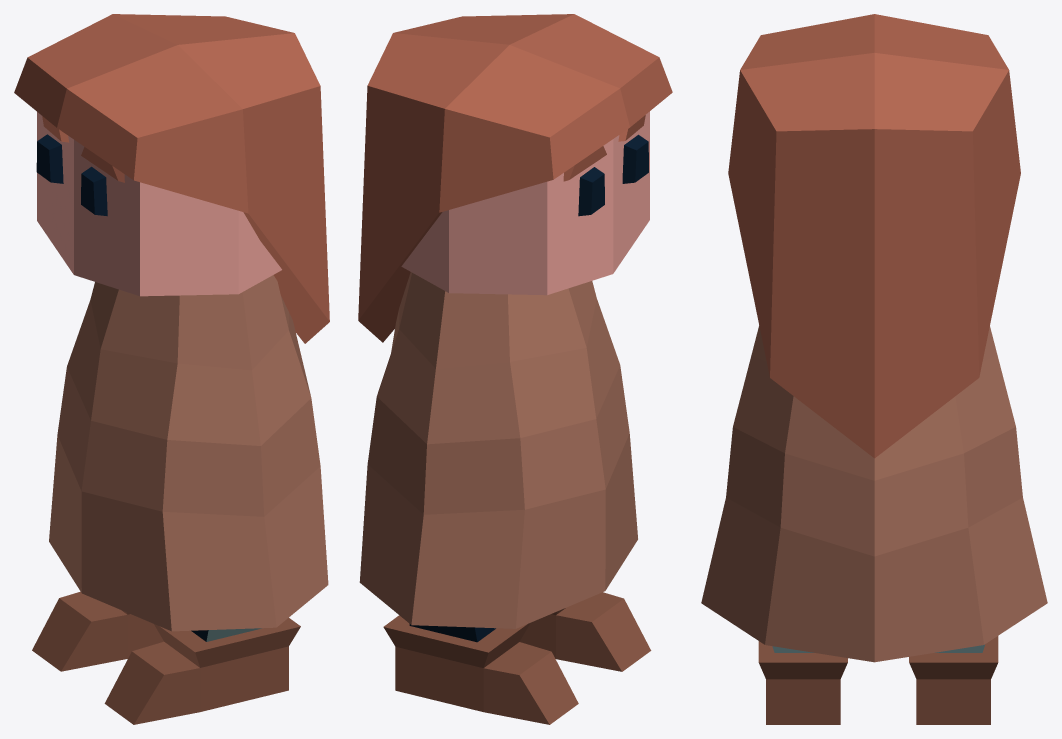
File: SK_Standard_Citizen_D.fbx
The picture shows the model from 3 angles, left to right: view 1: azimuth 30°, elevation 25°; view 2: azimuth 150°, elevation 25°; view 3: azimuth 270°, elevation 25°; orthographic projection. The views are drawn at different scales.
Visible parts, largest first — view 1: SK_StandardCharacter_D; view 2: SK_StandardCharacter_D; view 3: SK_StandardCharacter_D.
Boxes of the visible parts, left/top/right/bottom form: SK_StandardCharacter_D: left=14, top=14, right=329, bottom=724; SK_StandardCharacter_D: left=358, top=14, right=672, bottom=724; SK_StandardCharacter_D: left=701, top=14, right=1047, bottom=724.
Size of the model in its own units: 55.63 by 131 by 63.84.
